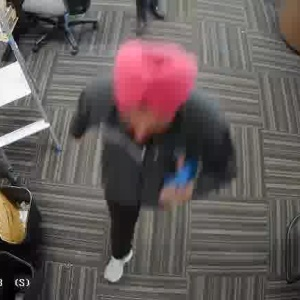person: (93, 42, 224, 285)
